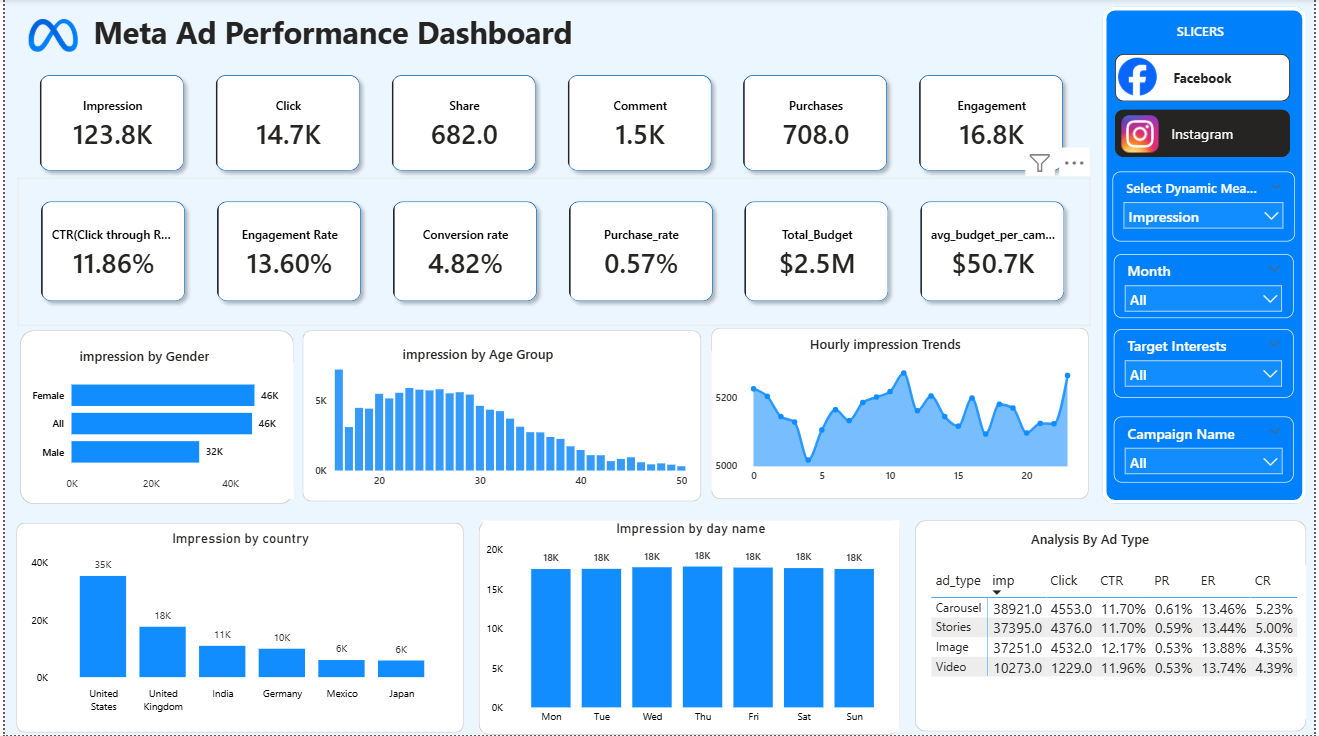

Layout of this report page (visuals, bound fields, positions):
{"tool":"powerbi","page":{"name":"Instagram","canvas":[1600,900],"ordinal":1},"visuals":[{"type":"shape","box":[1113.2,638.1,478.6,243.6],"z":0},{"type":"shape","box":[863.6,402.6,461.6,209.4],"z":1000},{"type":"shape","box":[578,638.1,514.6,243.6],"z":2000},{"type":"textbox","box":[90.9,10.1,621.1,67.3],"z":3000},{"type":"image","box":[13.8,24.5,90.2,39.7],"z":4000},{"type":"shape","box":[1341.3,9.2,249.2,608.4],"z":5000},{"type":"cardVisual","fields":{"Data":["ad_events.impression","ad_events.Click","ad_events.Share","ad_events.Comment","ad_events.Purchases","ad_events.Engagement"]},"box":[13.8,64.2,1313,175.8],"z":6000},{"type":"cardVisual","fields":{"Data":["ad_events.CTR(Click through Rates)","ad_events.Engagement Rate","ad_events.Conversion rate","ad_events.Purchase_rate","ad_events.Total_Budget","ad_events.avg_budget_per_campaings"]},"box":[15.3,218.6,1311.5,180.4],"z":7000},{"type":"slicer","fields":{"Values":["Select Dynamic Measure.Select Dynamic Measure"]},"box":[1354.1,211.5,223,85.2],"z":8000},{"type":"shape","box":[18.3,405.1,334.8,212.5],"z":9000},{"type":"barChart","fields":{"Y":["ad_events.Impression"],"Category":["ads.target_gender"]},"box":[24,444.3,315.6,166.4],"z":10000},{"type":"cardVisual","fields":{"Data":["ad_events.Gender title"]},"box":[47.4,400.5,246.1,68.8],"z":11000},{"type":"shape","box":[363.8,405.1,487.6,209.4],"z":12000},{"type":"columnChart","fields":{"Y":["ad_events.Impression"],"Category":["Users.user_age"]},"box":[374.5,426.5,464.7,180.4],"z":13000},{"type":"cardVisual","fields":{"Data":["ad_events.Age title"]},"box":[450.9,398.9,255.3,67.3],"z":14000},{"type":"shape","box":[13.7,639.8,547.2,240.1],"z":15000},{"type":"columnChart","fields":{"Y":["ad_events.Impression"],"Category":["Users.country"]},"box":[27.4,646.7,521.4,229.8],"z":16000},{"type":"slicer","fields":{"Values":["Calender Table.Month"]},"box":[1355.7,311.5,219.7,78.7],"z":17000},{"type":"clusteredColumnChart","fields":{"Y":["ad_events.Impression"],"Category":["Calender Table.day name"]},"box":[583.2,641.5,494,236.7],"z":18000},{"type":"areaChart","fields":{"Y":["ad_events.Impression"],"Category":["ad_events.Event Hour"]},"box":[867.9,430.5,451.1,169.8],"z":19000},{"type":"cardVisual","fields":{"Data":["ad_events.Hourly title"]},"box":[930.9,388.2,292,65.7],"z":20000},{"type":"pivotTable","fields":{"Rows":["ads.ad_type"],"Values":["ad_events.impression","ad_events.Click","ad_events.CTR(Click through Rates)","ad_events.Purchase_rate","ad_events.Engagement Rate","ad_events.Conversion rate"]},"box":[1121.8,693,463.1,187],"z":21000},{"type":"slicer","fields":{"Values":["ads.target_interests"]},"box":[1355.7,403.3,219.7,83.6],"z":22000},{"type":"slicer","fields":{"Values":["Campaings.name"]},"box":[1355.8,510.5,220.1,81],"z":23000},{"type":"pageNavigator","box":[1356.7,67.9,214.8,126.2],"z":24000},{"type":"image","box":[1362.7,142.5,48.9,45.6],"z":25000},{"type":"image","box":[1360.5,72.5,48.9,46.7],"z":26000},{"type":"textbox","box":[1238.1,643.5,177.3,48.9],"z":27000},{"type":"textbox","box":[1386.9,23,150.8,41],"z":28000}]}

Visuals, with their boxes in screenshot pixels (x1, y1, x2, y2), scaled from the page's 1600x900 canvas onto the 1319x736 screenshot:
shape: [x1=918, y1=522, x2=1312, y2=721]
shape: [x1=712, y1=329, x2=1092, y2=500]
shape: [x1=476, y1=522, x2=901, y2=721]
textbox: [x1=75, y1=8, x2=587, y2=63]
image: [x1=11, y1=20, x2=86, y2=53]
shape: [x1=1106, y1=8, x2=1311, y2=505]
cardVisual - ad_events.impression x ad_events.Click: [x1=11, y1=53, x2=1094, y2=196]
cardVisual - ad_events.CTR(Click through Rates) x ad_events.Engagement Rate: [x1=13, y1=179, x2=1094, y2=326]
slicer - Select Dynamic Measure.Select Dynamic Measure: [x1=1116, y1=173, x2=1300, y2=243]
shape: [x1=15, y1=331, x2=291, y2=505]
barChart - ad_events.Impression x ads.target_gender: [x1=20, y1=363, x2=280, y2=499]
cardVisual - ad_events.Gender title: [x1=39, y1=328, x2=242, y2=384]
shape: [x1=300, y1=331, x2=702, y2=503]
columnChart - ad_events.Impression x Users.user_age: [x1=309, y1=349, x2=692, y2=496]
cardVisual - ad_events.Age title: [x1=372, y1=326, x2=582, y2=381]
shape: [x1=11, y1=523, x2=462, y2=720]
columnChart - ad_events.Impression x Users.country: [x1=23, y1=529, x2=452, y2=717]
slicer - Calender Table.Month: [x1=1118, y1=255, x2=1299, y2=319]
clusteredColumnChart - ad_events.Impression x Calender Table.day name: [x1=481, y1=525, x2=888, y2=718]
areaChart - ad_events.Impression x ad_events.Event Hour: [x1=715, y1=352, x2=1087, y2=491]
cardVisual - ad_events.Hourly title: [x1=767, y1=317, x2=1008, y2=371]
pivotTable - ads.ad_type x ad_events.impression: [x1=925, y1=567, x2=1307, y2=720]
slicer - ads.target_interests: [x1=1118, y1=330, x2=1299, y2=398]
slicer - Campaings.name: [x1=1118, y1=417, x2=1299, y2=484]
pageNavigator: [x1=1118, y1=56, x2=1296, y2=159]
image: [x1=1123, y1=117, x2=1164, y2=154]
image: [x1=1122, y1=59, x2=1162, y2=97]
textbox: [x1=1021, y1=526, x2=1167, y2=566]
textbox: [x1=1143, y1=19, x2=1268, y2=52]
